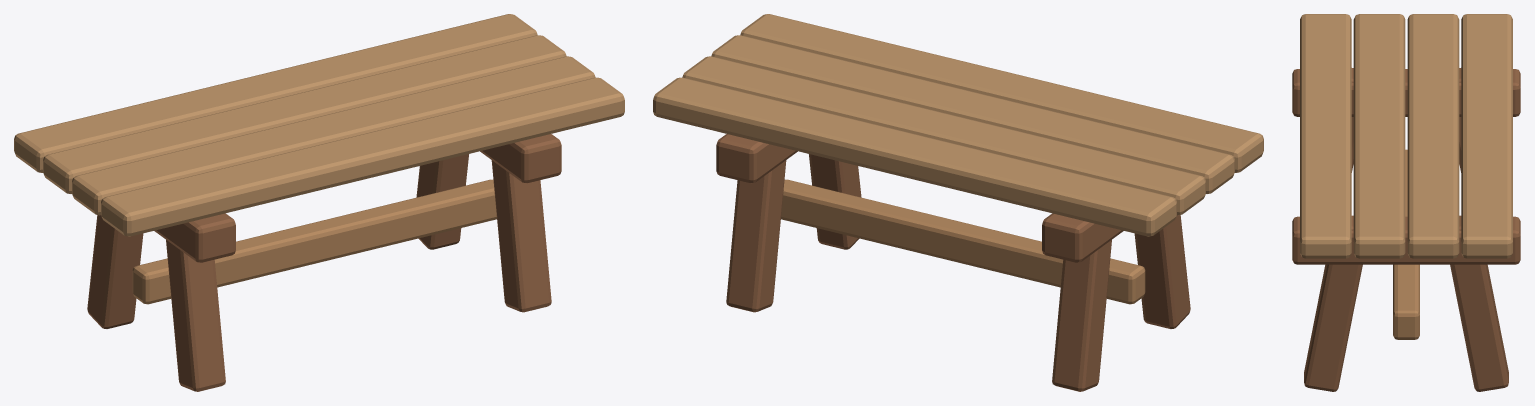
Rendered from table_communal.glb.
3 views of the same model, side by side, from view 1: azimuth 30°, elevation 25°; view 2: azimuth 150°, elevation 25°; view 3: azimuth 270°, elevation 25° (orthographic). The views are drawn at different scales.
Visible parts, largest first — view 1: table_communal; view 2: table_communal; view 3: table_communal.
Part boxes in pixels (x1,y1,x2,y2): table_communal: (14, 14, 624, 391); table_communal: (653, 14, 1263, 391); table_communal: (1292, 14, 1520, 391).
Bounding box in the file's own units: 2 × 0.7683 × 0.85.
